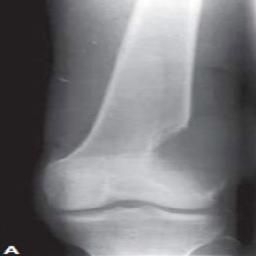cancer: (149, 117, 225, 193)
